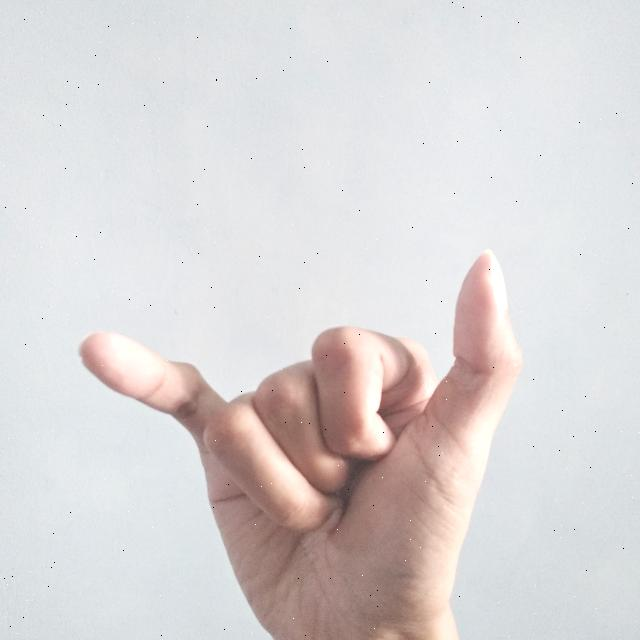Y: (70, 243, 532, 640)
